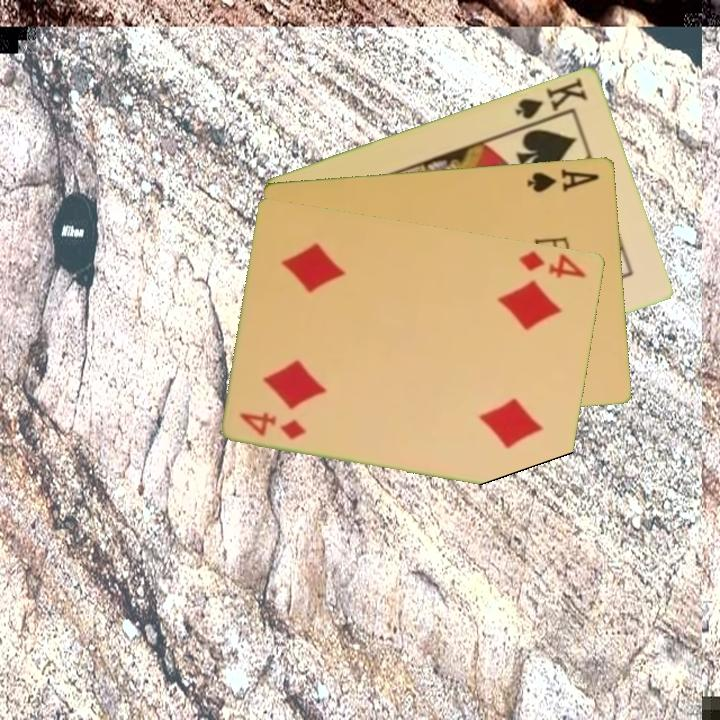4d: (516, 247, 590, 281), (236, 409, 310, 442)
As: (524, 165, 603, 195)
Ks: (512, 73, 591, 129)
